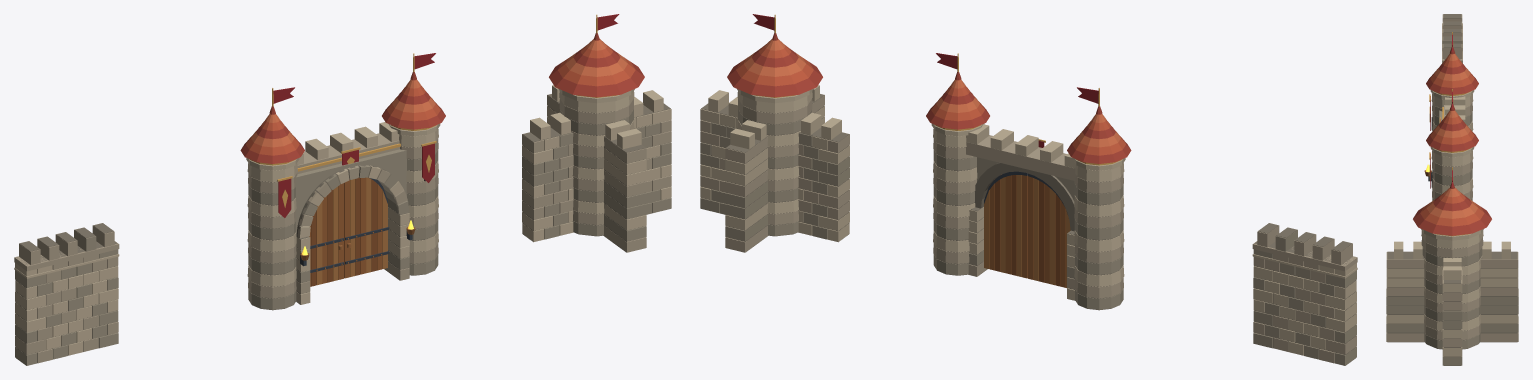
File: muralhas-nivel-5.glb
3 views of the same model, side by side, from view 1: azimuth 30°, elevation 25°; view 2: azimuth 150°, elevation 25°; view 3: azimuth 270°, elevation 25° (orthographic). The views are drawn at different scales.
Parts seen in each view (by area): view 1: tower_5_c3b49a, gate_5_c3b49a, gate_5_a09682, tower_5_a09682, tower_5_b1a38d, gate_5_b1a38d, wall_5_b1a38d, wall_5_c3b49a, wall_5_a09682, gate_5_9e4235, tower_5_9e4235, right_5_9c6237 (+14 smaller); view 2: tower_5_c3b49a, gate_5_c3b49a, gate_5_b1a38d, tower_5_a09682, tower_5_b1a38d, gate_5_a09682, wall_5_b1a38d, wall_5_c3b49a, wall_5_a09682, gate_5_82796a, gate_5_9e4235, tower_5_9e4235 (+13 smaller); view 3: tower_5_c3b49a, tower_5_b1a38d, tower_5_a09682, tower_5_82796a, gate_5_c3b49a, gate_5_9e4235, tower_5_9e4235, gate_5_b9583c, tower_5_b9583c, gate_5_b1a38d, gate_5_c66c49, tower_5_c66c49 (+4 smaller).
Boxes of the visible parts, x1,y1,x2,y2 form: tower_5_c3b49a: (522, 85, 671, 241); gate_5_c3b49a: (246, 122, 440, 304); gate_5_a09682: (248, 149, 438, 309); tower_5_a09682: (522, 109, 671, 241); tower_5_b1a38d: (522, 94, 671, 252); gate_5_b1a38d: (248, 133, 438, 298); wall_5_b1a38d: (14, 223, 119, 363); wall_5_c3b49a: (14, 254, 119, 355); wall_5_a09682: (15, 227, 118, 365); gate_5_9e4235: (240, 72, 445, 163); tower_5_9e4235: (549, 33, 644, 97); right_5_9c6237: (344, 177, 382, 278); tower_5_c3b49a: (700, 85, 849, 241); gate_5_c3b49a: (931, 123, 1125, 300); gate_5_b1a38d: (933, 135, 1123, 298); tower_5_a09682: (700, 109, 849, 241); tower_5_b1a38d: (700, 94, 849, 252); gate_5_a09682: (933, 150, 1123, 309); wall_5_b1a38d: (1252, 223, 1357, 363); wall_5_c3b49a: (1252, 254, 1357, 355); wall_5_a09682: (1253, 227, 1356, 365); gate_5_82796a: (937, 146, 1119, 310); gate_5_9e4235: (926, 72, 1131, 163); tower_5_9e4235: (727, 33, 822, 97); tower_5_c3b49a: (1386, 229, 1518, 356); tower_5_b1a38d: (1386, 237, 1518, 347); tower_5_a09682: (1386, 247, 1518, 365); tower_5_82796a: (1387, 247, 1517, 365); gate_5_c3b49a: (1430, 90, 1474, 194); gate_5_9e4235: (1426, 47, 1478, 151); tower_5_9e4235: (1413, 183, 1491, 235); gate_5_b9583c: (1430, 58, 1474, 144); tower_5_b9583c: (1420, 192, 1484, 226); gate_5_b1a38d: (1432, 102, 1472, 199); gate_5_c66c49: (1434, 54, 1470, 137); tower_5_c66c49: (1427, 188, 1477, 218).
Bounding box in the file's own units: 27.99 × 8.81 × 6.02.
